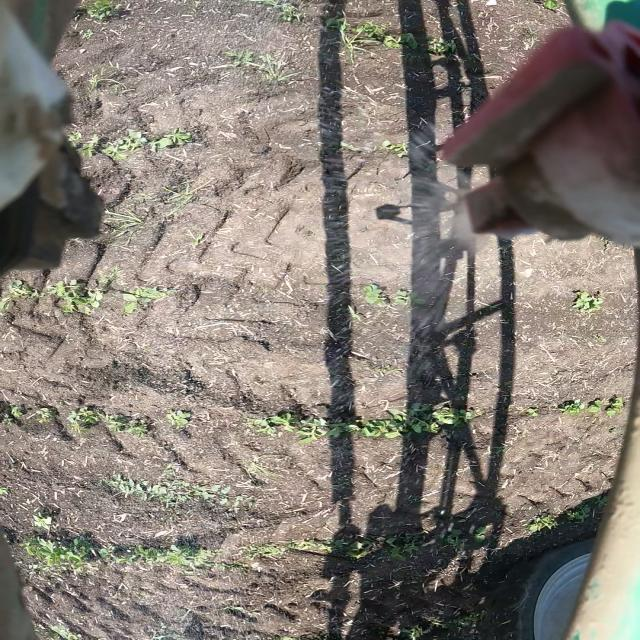plants: (101, 458, 252, 510), (100, 542, 219, 576), (396, 603, 490, 639), (20, 529, 99, 571), (335, 526, 419, 564), (419, 519, 497, 558), (355, 399, 434, 436), (218, 49, 298, 85), (318, 11, 366, 63), (44, 279, 107, 318), (432, 396, 497, 430), (140, 182, 210, 212), (290, 414, 362, 442), (96, 210, 150, 247), (72, 0, 137, 26), (276, 535, 344, 558), (246, 0, 308, 25), (562, 285, 611, 315), (113, 285, 166, 312), (364, 22, 416, 49), (102, 411, 158, 436), (100, 131, 149, 159), (514, 508, 562, 536), (588, 391, 640, 416), (240, 410, 293, 434), (352, 283, 398, 310), (233, 536, 279, 562), (64, 404, 107, 431), (149, 127, 191, 153), (395, 286, 440, 310), (0, 277, 38, 303), (66, 129, 100, 158), (76, 70, 118, 90), (378, 136, 415, 157), (162, 406, 197, 428), (18, 509, 54, 530), (539, 395, 582, 412), (423, 36, 459, 56), (510, 18, 546, 36), (44, 626, 90, 640), (0, 396, 25, 421), (561, 502, 595, 520), (176, 229, 209, 247), (25, 404, 58, 421), (528, 0, 568, 14), (512, 402, 532, 420), (588, 491, 610, 505), (0, 484, 17, 497)
